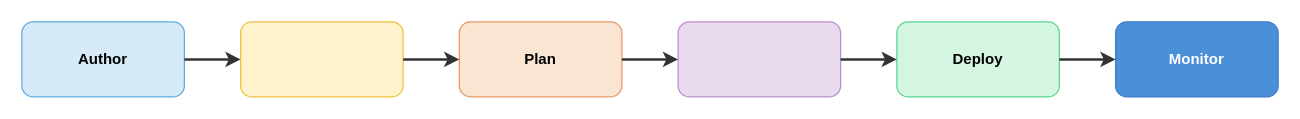
Some shapes in this 1300 by 119 pixel diagram are drawn without their labels. Here are the shapes that lost their labels. From the top down, the centre of each, then its label:
At pixel 321 59: "Validate".
At pixel 759 59: "Review".
